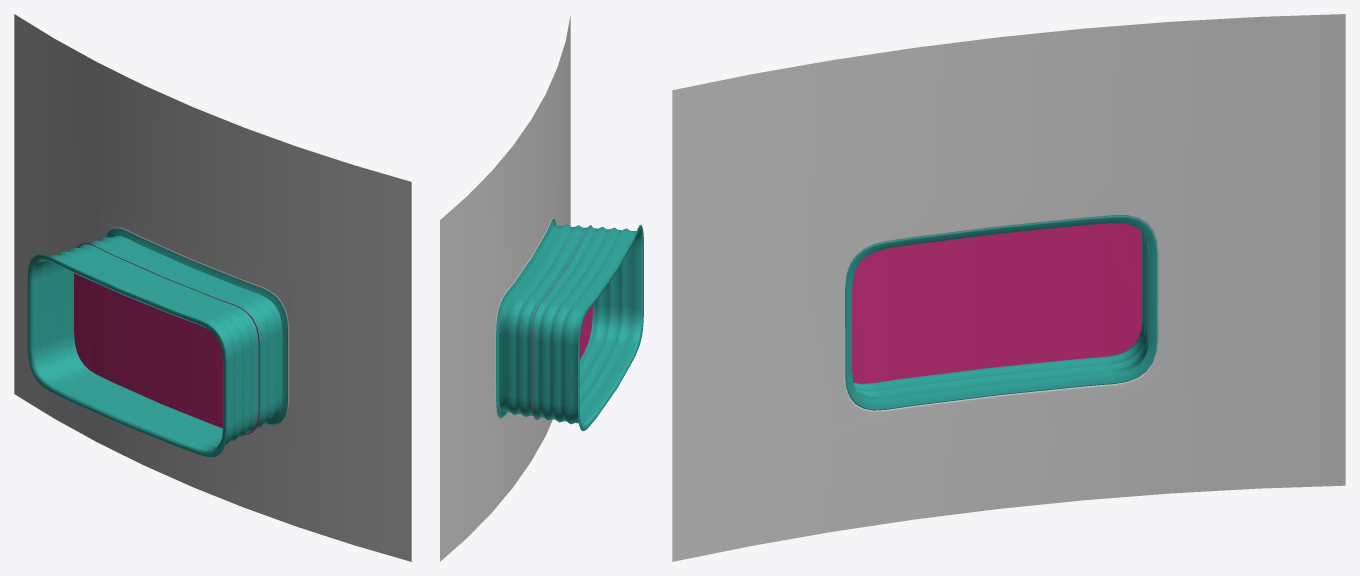
File: LabTunnelWindow.fbx
3 renders of one model, left to right at view 1: azimuth 30°, elevation 25°; view 2: azimuth 150°, elevation 25°; view 3: azimuth 270°, elevation 25°, orthographic. The views are drawn at different scales.
Visible parts, largest first — view 1: TunnelWindow; view 2: TunnelWindow; view 3: TunnelWindow.
Part boxes in pixels (x1,y1,x2,y2): TunnelWindow: (14, 14, 411, 561); TunnelWindow: (440, 15, 643, 561); TunnelWindow: (672, 14, 1345, 561).
Size of the model in its own units: 217 by 400 by 518.
